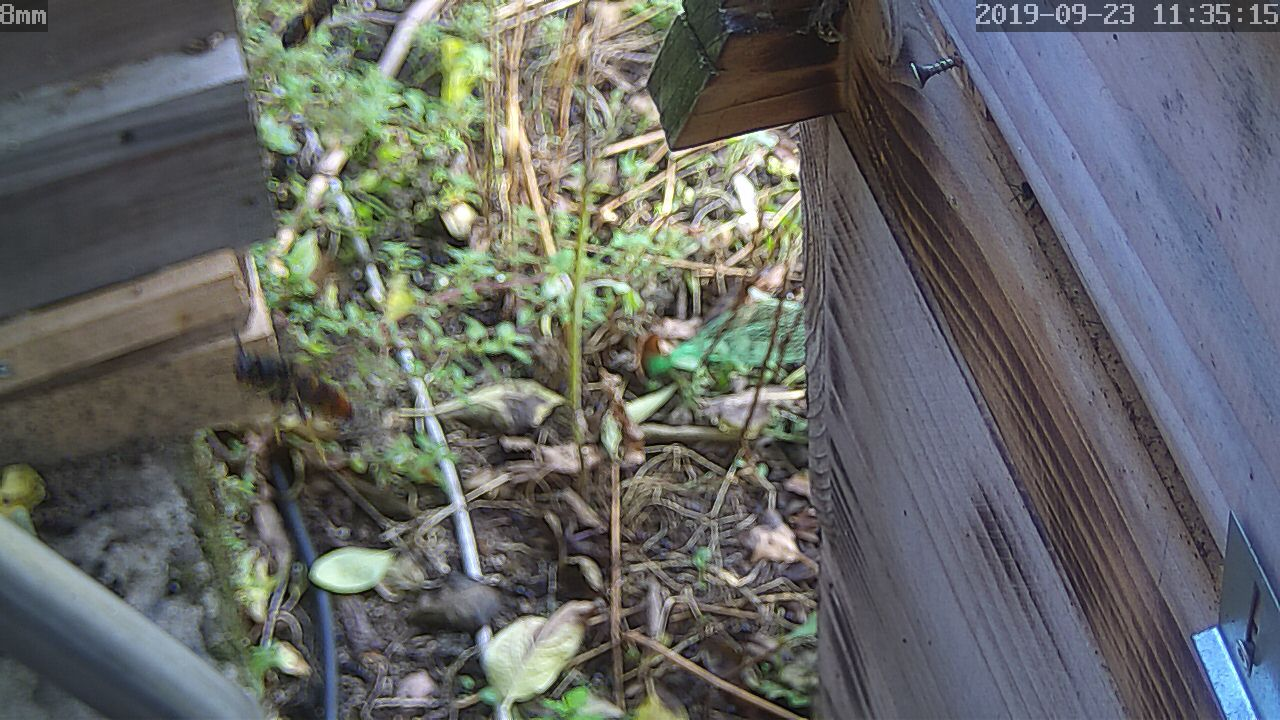hornet: (222, 333, 358, 440)
